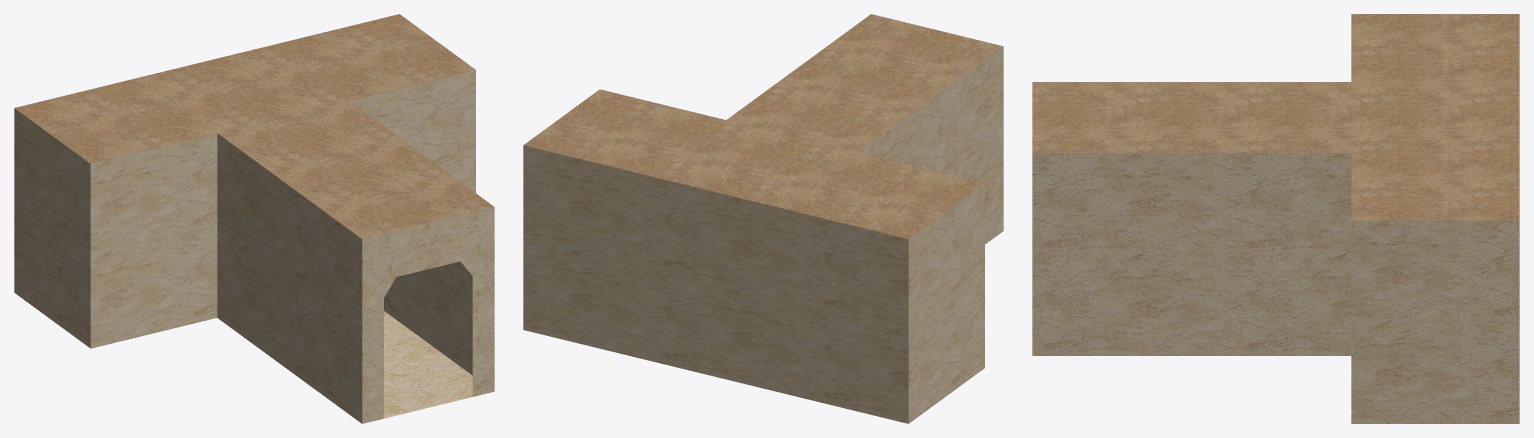
File: thm_tato_imprv_building_s02_r1_foyer_mesh_l1.fbx
3 renders of one model, left to right at view 1: azimuth 30°, elevation 25°; view 2: azimuth 150°, elevation 25°; view 3: azimuth 270°, elevation 25°, orthographic. The views are drawn at different scales.
Parts seen in each view (by area): view 1: mesh_node; view 2: mesh_node; view 3: mesh_node.
Part boxes in pixels (left/top/right/bottom): mesh_node: left=14, top=14, right=494, bottom=423; mesh_node: left=523, top=14, right=1003, bottom=423; mesh_node: left=1032, top=14, right=1519, bottom=423.
Size of the model in its own units: 8.73 by 4 by 8.69.
